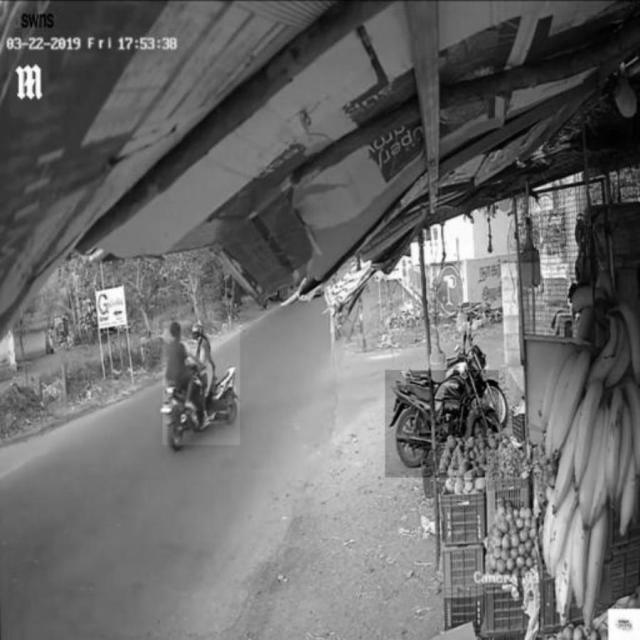accident: (163, 322, 240, 446)
vehicle: (385, 371, 498, 479)
